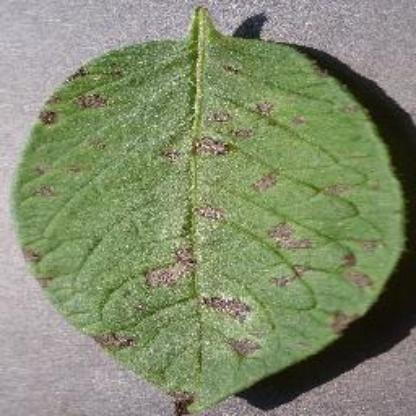Early-Blight: (14, 7, 412, 409)
